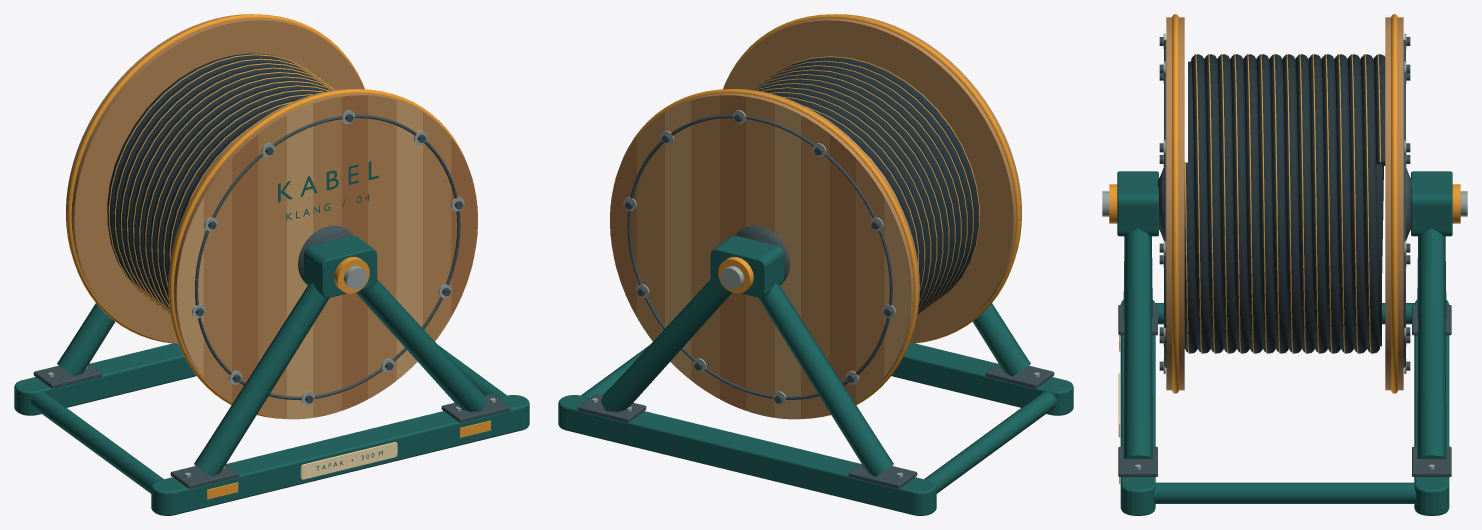
3 views of the same model, side by side, from view 1: azimuth 30°, elevation 25°; view 2: azimuth 150°, elevation 25°; view 3: azimuth 270°, elevation 25° (orthographic). The views are drawn at different scales.
Visible parts, largest first — view 1: Drum cheeks, Payoff frame, Wound cable, Flange hardware; view 2: Drum cheeks, Payoff frame, Wound cable, Flange hardware; view 3: Wound cable, Payoff frame, Drum cheeks, Flange hardware.
Part boxes in pixels (bbox=[...]): Drum cheeks: bbox=[66, 14, 477, 419]; Payoff frame: bbox=[14, 235, 529, 515]; Wound cable: bbox=[107, 53, 335, 315]; Flange hardware: bbox=[192, 110, 464, 405]; Drum cheeks: bbox=[610, 14, 1021, 419]; Payoff frame: bbox=[558, 235, 1073, 515]; Wound cable: bbox=[752, 56, 979, 315]; Flange hardware: bbox=[623, 110, 895, 405]; Wound cable: bbox=[1184, 54, 1385, 353]; Payoff frame: bbox=[1102, 171, 1467, 515]; Drum cheeks: bbox=[1164, 14, 1405, 393]; Flange hardware: bbox=[1157, 33, 1412, 373].
Bounding box in the file's own units: 1.24 × 1.15 × 0.981.
